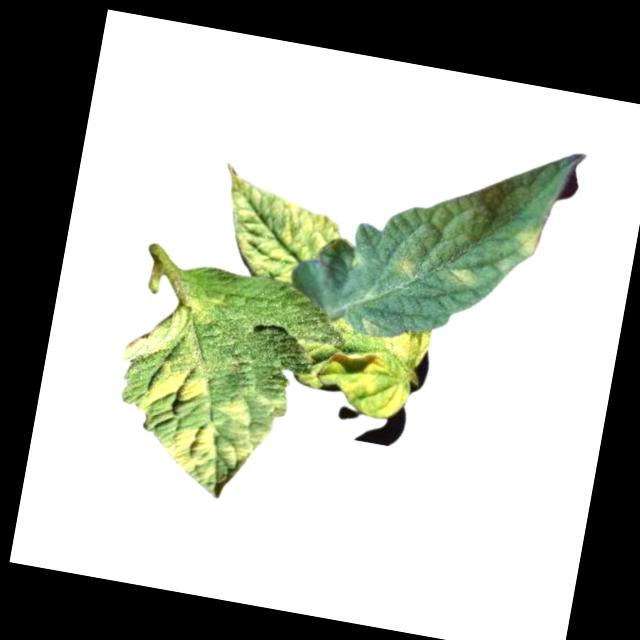Leaf_Mold: (99, 296, 305, 509), (209, 162, 351, 290), (312, 345, 416, 424), (382, 321, 437, 369), (506, 221, 547, 261), (440, 261, 485, 295), (391, 252, 423, 284)
